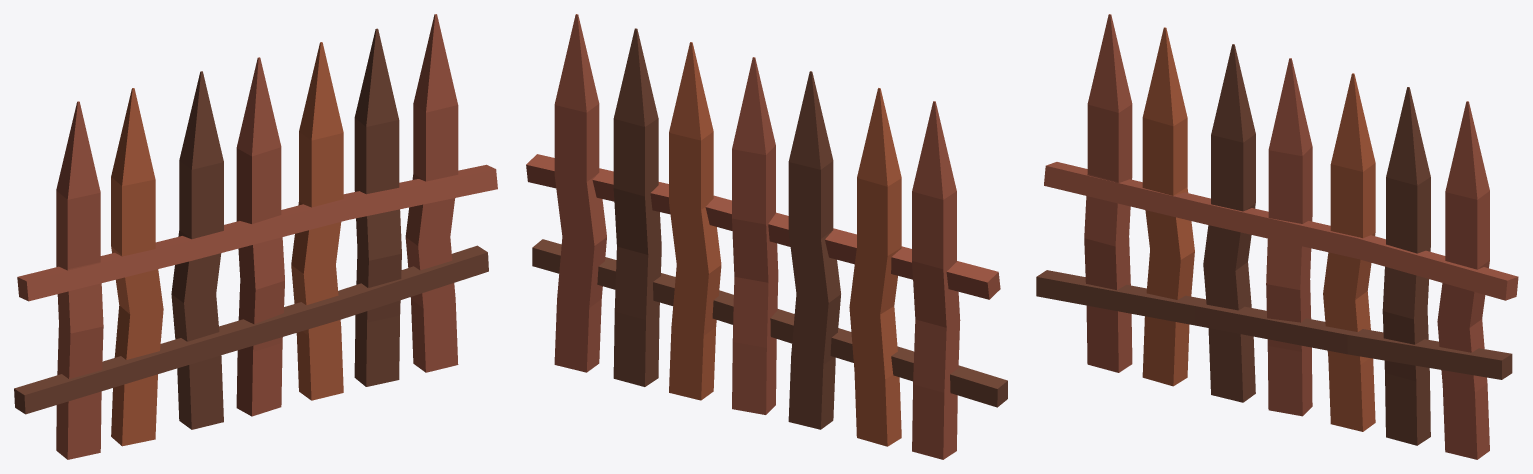
Rendered from fence.fbx.
3 renders of one model, left to right at view 1: azimuth 30°, elevation 25°; view 2: azimuth 150°, elevation 25°; view 3: azimuth 330°, elevation 25°, orthographic.
Visible parts, largest first — view 1: Cube.007, Cube.001, Cube.003, Cube.005, Cube.006, Cube, Cube.002, Cube.004, Cube.008; view 2: Cube.006, Cube.005, Cube, Cube.004, Cube.002, Cube.003, Cube.001, Cube.008, Cube.007; view 3: Cube.003, Cube.002, Cube.007, Cube.005, Cube.004, Cube, Cube.006, Cube.001, Cube.008.
Boxes of the visible parts, left/top/right/bottom form: Cube.007: left=14, top=245, right=488, bottom=414; Cube.001: left=236, top=57, right=284, bottom=416; Cube.003: left=56, top=101, right=103, bottom=459; Cube.005: left=354, top=28, right=401, bottom=386; Cube.006: left=405, top=14, right=458, bottom=372; Cube: left=171, top=71, right=223, bottom=429; Cube.002: left=111, top=88, right=163, bottom=446; Cube.004: left=291, top=42, right=343, bottom=400; Cube.008: left=17, top=164, right=497, bottom=301; Cube.006: left=554, top=14, right=606, bottom=372; Cube.005: left=613, top=28, right=661, bottom=386; Cube: left=788, top=71, right=840, bottom=429; Cube.004: left=669, top=42, right=721, bottom=400; Cube.002: left=849, top=88, right=901, bottom=446; Cube.003: left=912, top=101, right=960, bottom=459; Cube.001: left=732, top=57, right=778, bottom=414; Cube.008: left=526, top=154, right=1000, bottom=299; Cube.007: left=532, top=239, right=1007, bottom=407; Cube.003: left=1084, top=14, right=1132, bottom=372; Cube.002: left=1142, top=27, right=1194, bottom=386; Cube.007: left=1036, top=270, right=1512, bottom=379; Cube.005: left=1382, top=87, right=1430, bottom=445; Cube.004: left=1323, top=73, right=1375, bottom=431; Cube: left=1203, top=44, right=1255, bottom=402; Cube.006: left=1437, top=101, right=1489, bottom=459; Cube.001: left=1266, top=58, right=1312, bottom=416; Cube.008: left=1044, top=162, right=1518, bottom=300.
Size of the model in its own units: 266 by 189 by 19.15.
